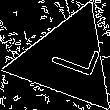L_W: (36, 36, 98, 84)
